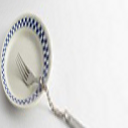fork: (11, 51, 92, 128)
